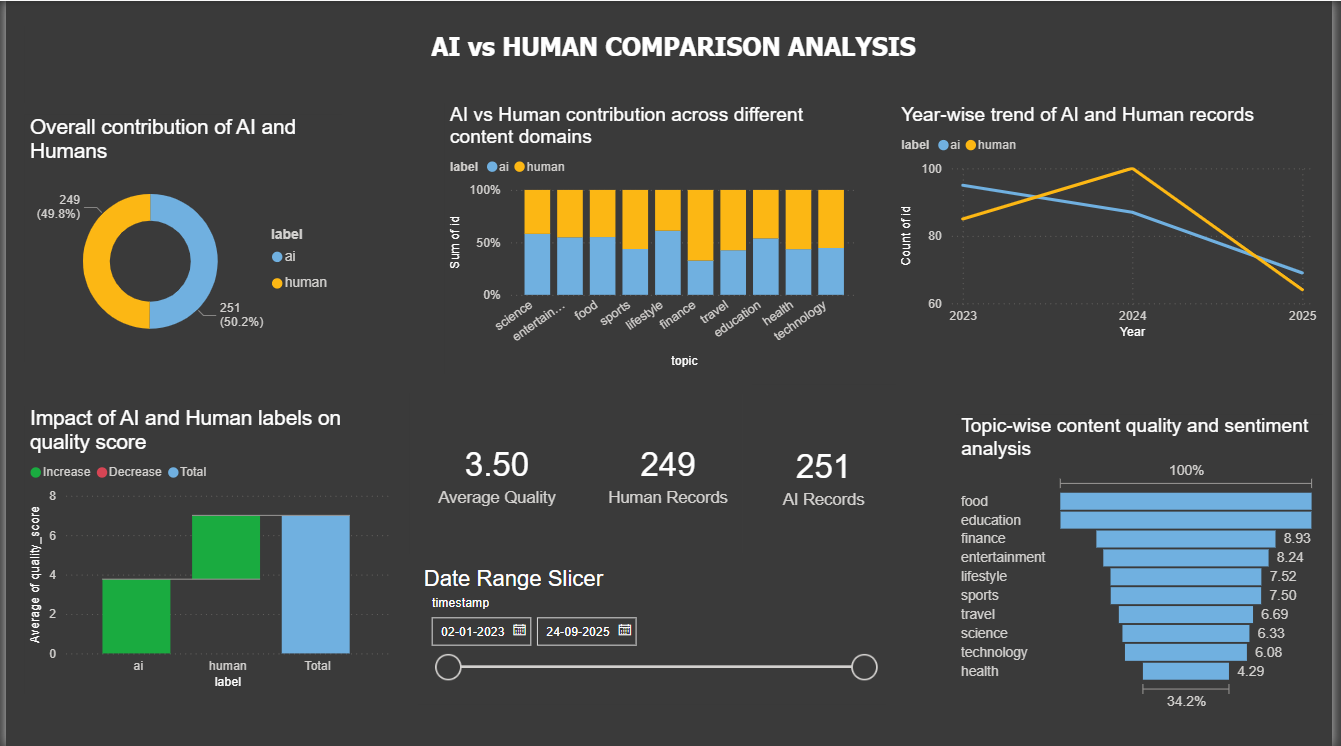

What the dashboard file says about the page in this screenshot:
{"tool":"powerbi","page":{"name":"Dashboard","canvas":[1280,720],"ordinal":2},"visuals":[{"type":"donutChart","title":"Overall contribution of AI and Humans","fields":{"Category":["ai_vs_human_dataset_medium.label"],"Y":["CountNonNull(ai_vs_human_dataset_medium.id)"]},"box":[18.3,110.1,305.7,238.5],"z":0},{"type":"hundredPercentStackedColumnChart","title":"AI vs Human contribution across different content domains","fields":{"Category":["ai_vs_human_dataset_medium.topic"],"Y":["Sum(ai_vs_human_dataset_medium.id)"],"Series":["ai_vs_human_dataset_medium.label"]},"box":[423.1,99,403.5,260.5],"z":1000},{"type":"lineChart","title":"Year-wise trend of AI and Human records","fields":{"Category":["ai_vs_human_dataset_medium.timestamp.Variation.Date Hierarchy.Year","ai_vs_human_dataset_medium.timestamp.Variation.Date Hierarchy.Quarter","ai_vs_human_dataset_medium.timestamp.Variation.Date Hierarchy.Month","ai_vs_human_dataset_medium.timestamp.Variation.Date Hierarchy.Day"],"Y":["CountNonNull(ai_vs_human_dataset_medium.id)"],"Series":["ai_vs_human_dataset_medium.label"]},"box":[859,98.9,411.4,231.6],"z":2000},{"type":"card","fields":{"Values":["ai_vs_human_dataset_medium.AI Records"]},"box":[567.4,379.1,144.3,154.1],"z":3000},{"type":"card","fields":{"Values":["ai_vs_human_dataset_medium.AI Records"]},"box":[720.2,370.5,138.2,174.9],"z":4000},{"type":"card","fields":{"Values":["ai_vs_human_dataset_medium.Average Quality"]},"box":[390.1,379.1,168.8,154.1],"z":5000},{"type":"funnel","title":"Topic-wise content quality and sentiment analysis","fields":{"Category":["ai_vs_human_dataset_medium.topic"],"Y":["Sum(ai_vs_human_dataset_medium.sentiment)"]},"box":[917.1,399.9,353.4,289.8],"z":6000},{"type":"slicer","title":"Date Range Slicer","fields":{"Values":["ai_vs_human_dataset_medium.timestamp"]},"box":[398.6,545.4,451.2,133.3],"z":7000},{"type":"waterfallChart","title":"Impact of AI and Human labels on quality score","fields":{"Category":["ai_vs_human_dataset_medium.label"],"Y":["Avg(ai_vs_human_dataset_medium.quality_score)"]},"box":[18.3,391.3,357.1,277.6],"z":8000},{"type":"textbox","box":[18.3,24.5,1252.2,74.6],"z":9000}]}

Visuals, with their boxes in screenshot pixels (x1, y1, x2, y2), scaled from the page's 1280x720 canvas onto the 1341x746 screenshot:
"Overall contribution of AI and Humans" donutChart: rect(19, 114, 339, 361)
"AI vs Human contribution across different content domains" hundredPercentStackedColumnChart: rect(443, 103, 866, 372)
"Year-wise trend of AI and Human records" lineChart: rect(900, 102, 1331, 342)
card - ai_vs_human_dataset_medium.AI Records: rect(594, 393, 746, 552)
card - ai_vs_human_dataset_medium.AI Records: rect(755, 384, 899, 565)
card - ai_vs_human_dataset_medium.Average Quality: rect(409, 393, 586, 552)
"Topic-wise content quality and sentiment analysis" funnel: rect(961, 414, 1331, 715)
"Date Range Slicer" slicer: rect(418, 565, 890, 703)
"Impact of AI and Human labels on quality score" waterfallChart: rect(19, 405, 393, 693)
textbox: rect(19, 25, 1331, 103)
